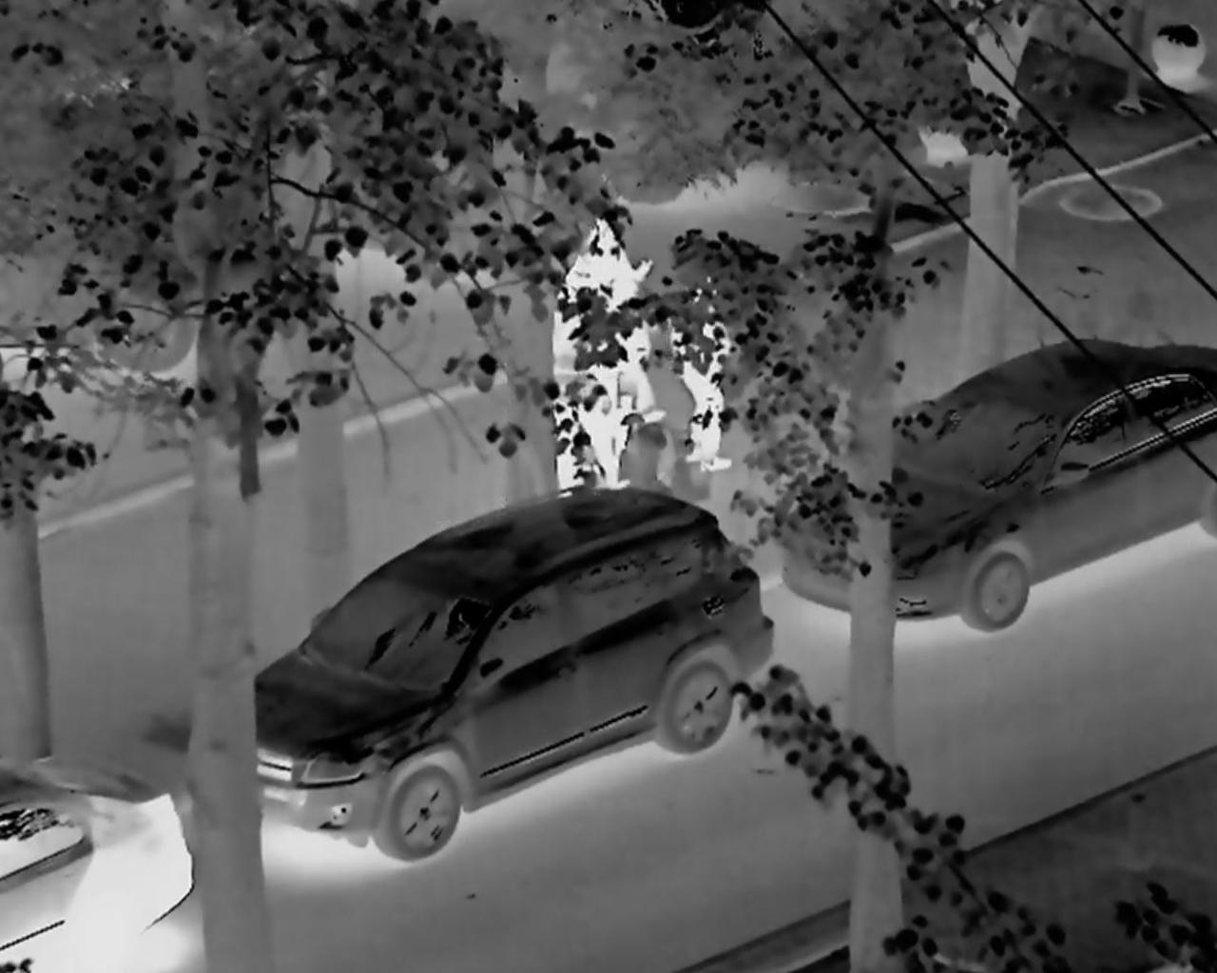person: (585, 218, 666, 429), (559, 267, 629, 501), (673, 287, 743, 490)
